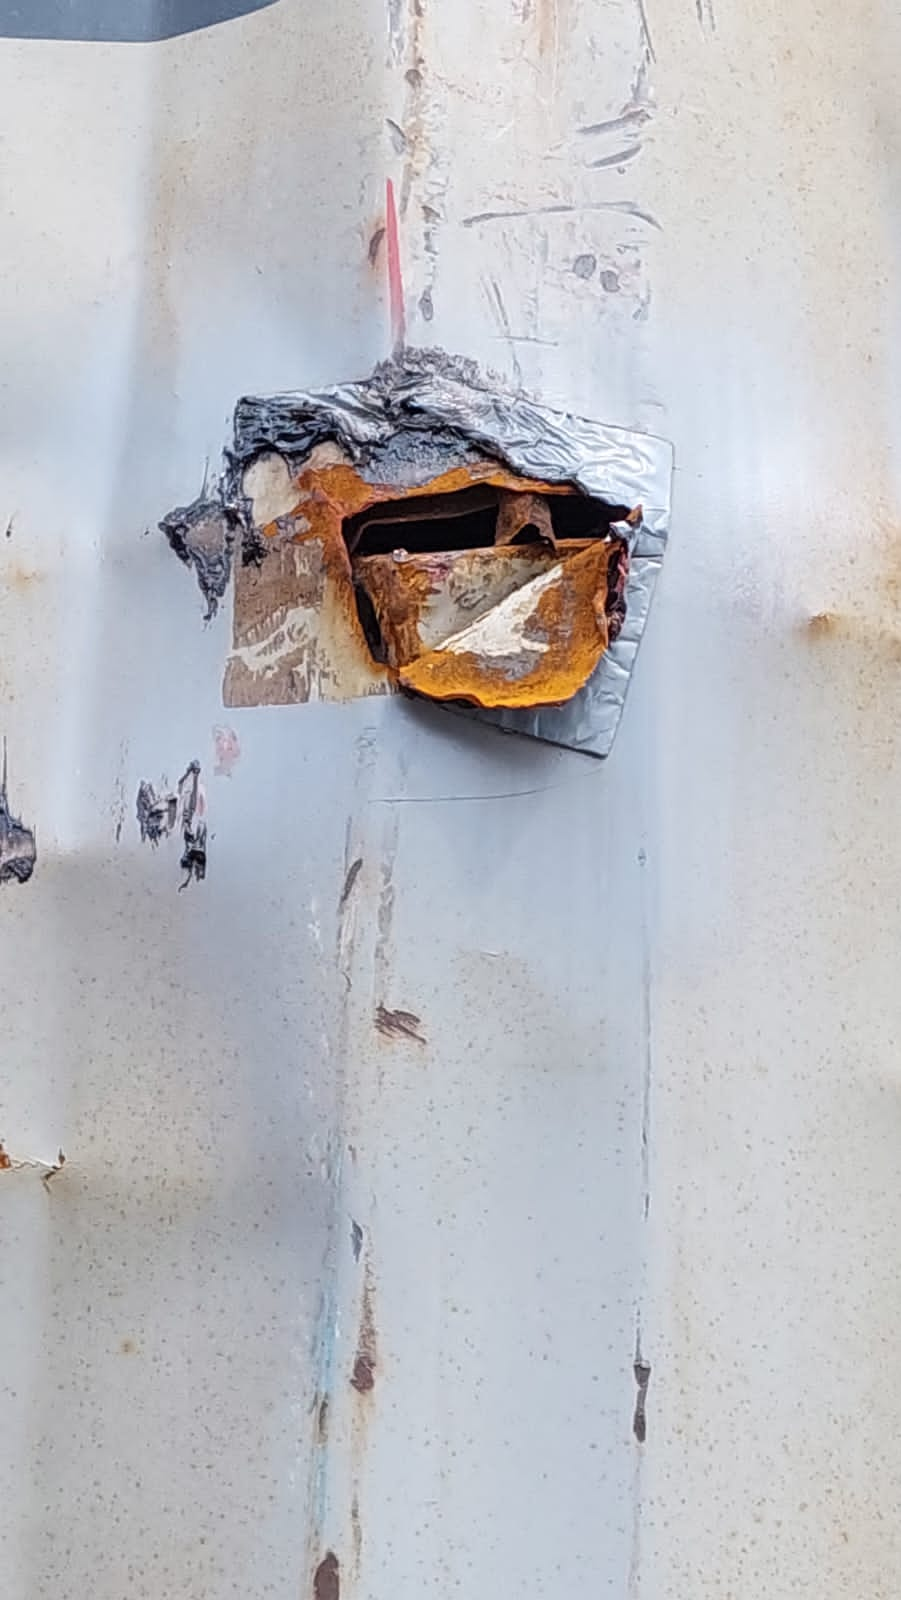cut: (123, 343, 747, 860)
